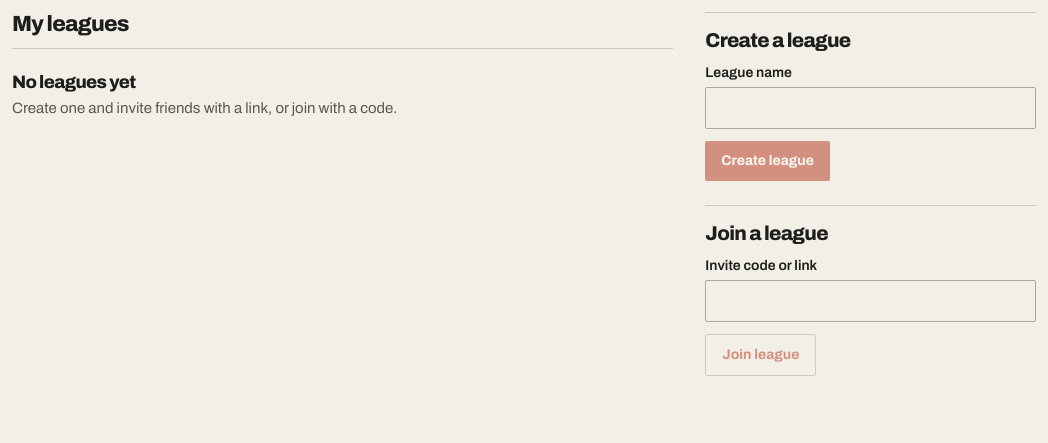
leagues › joins by pasted invite link and shows the API error
This screenshot has width=1048, height=443.
expect the heading "No leagues yet" is shown: met, box [12,72,136,92]
Step 1. Type "https://x.test/leagues/join/abc123" into the field labelled "Invite code or link" → (871, 301), box [705,280,1036,322]
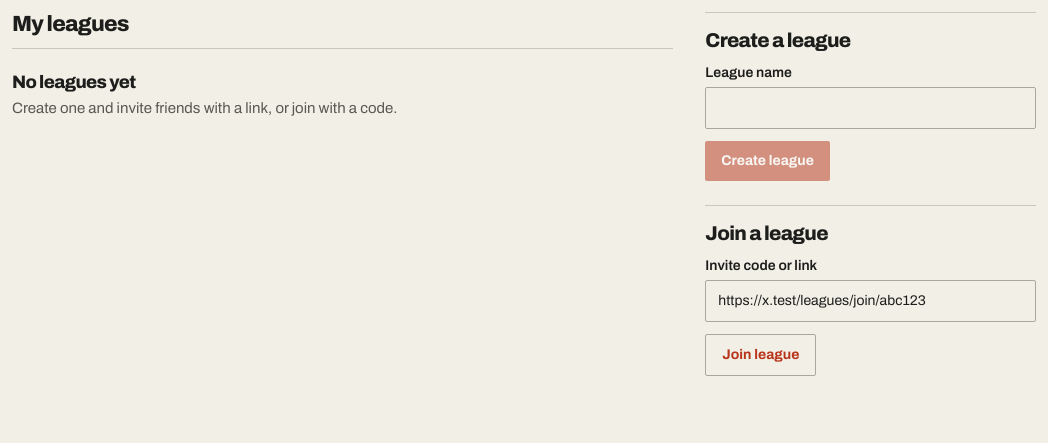
Step 2. Click the button "Join league" → (761, 355), box [705,334,816,376]
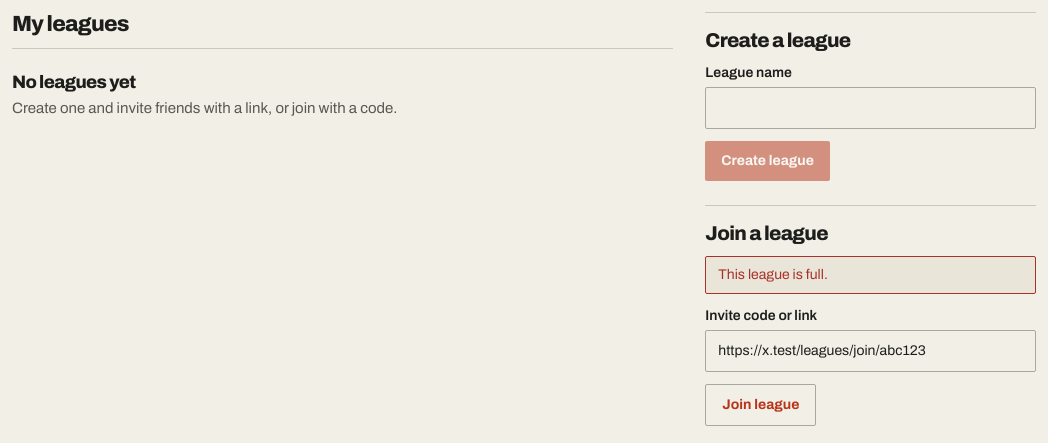
expect the text "This league is full." is shown: met, box [705,256,1036,294]
